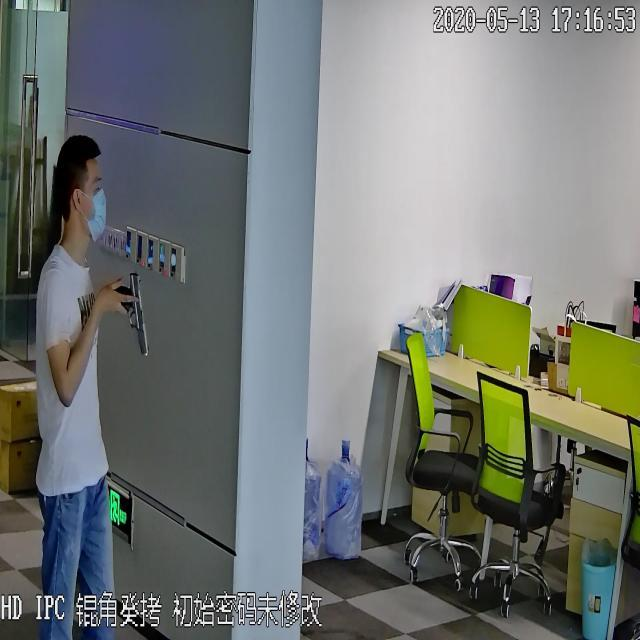gun: (112, 269, 151, 357)
